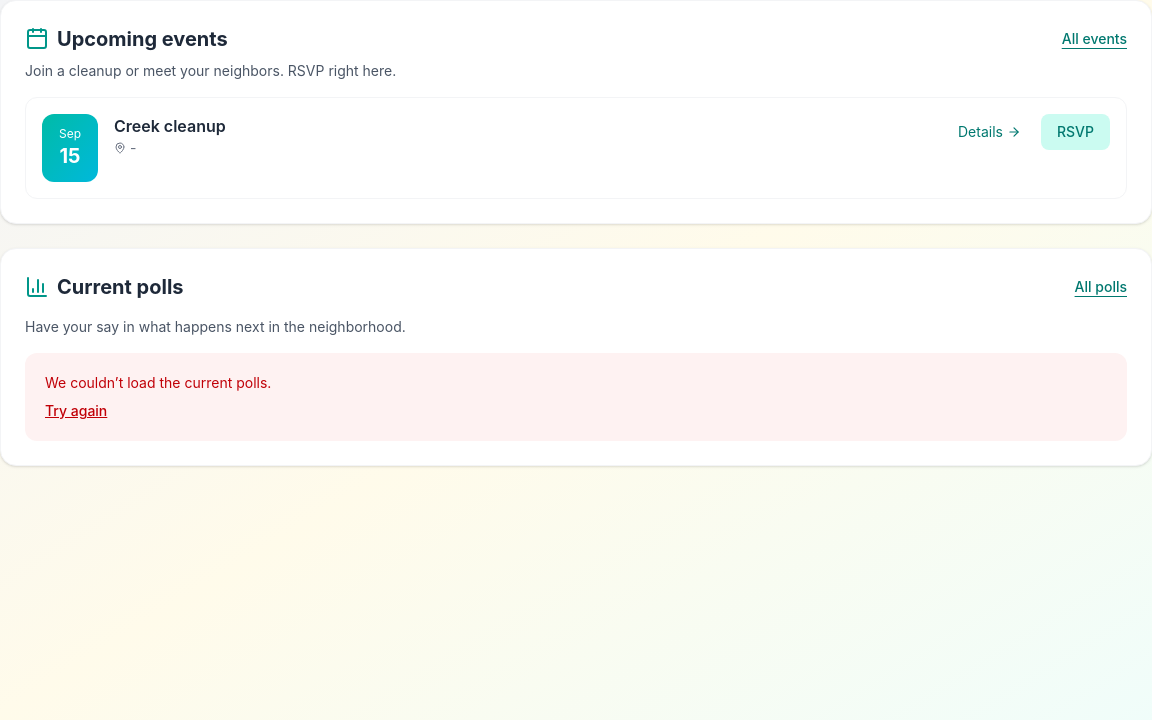
Scenario: home activity cards › offers a retry when polls fail without hiding events or misreporting an empty list
The image size is (1152, 720).
expect the message shows "We couldn’t load the current polls.": met, box [45,374,271,391]
expect the heading "Creek cleanup" is shown: met, box [114,114,226,138]
Click the button "Try again": (76, 411) [45,401,107,421]
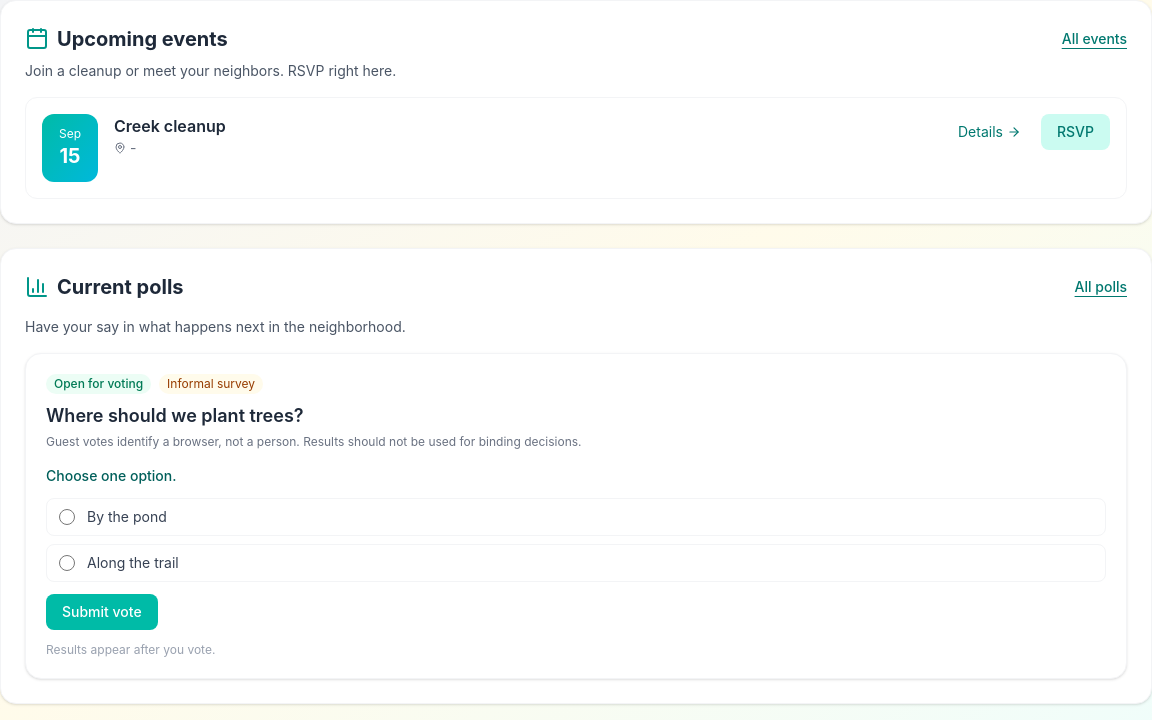
expect the radio button labelled "By the pond" is shown: met, box [59,509,75,525]
expect the message "We couldn’t load the current polls. Try again" is gone: met
